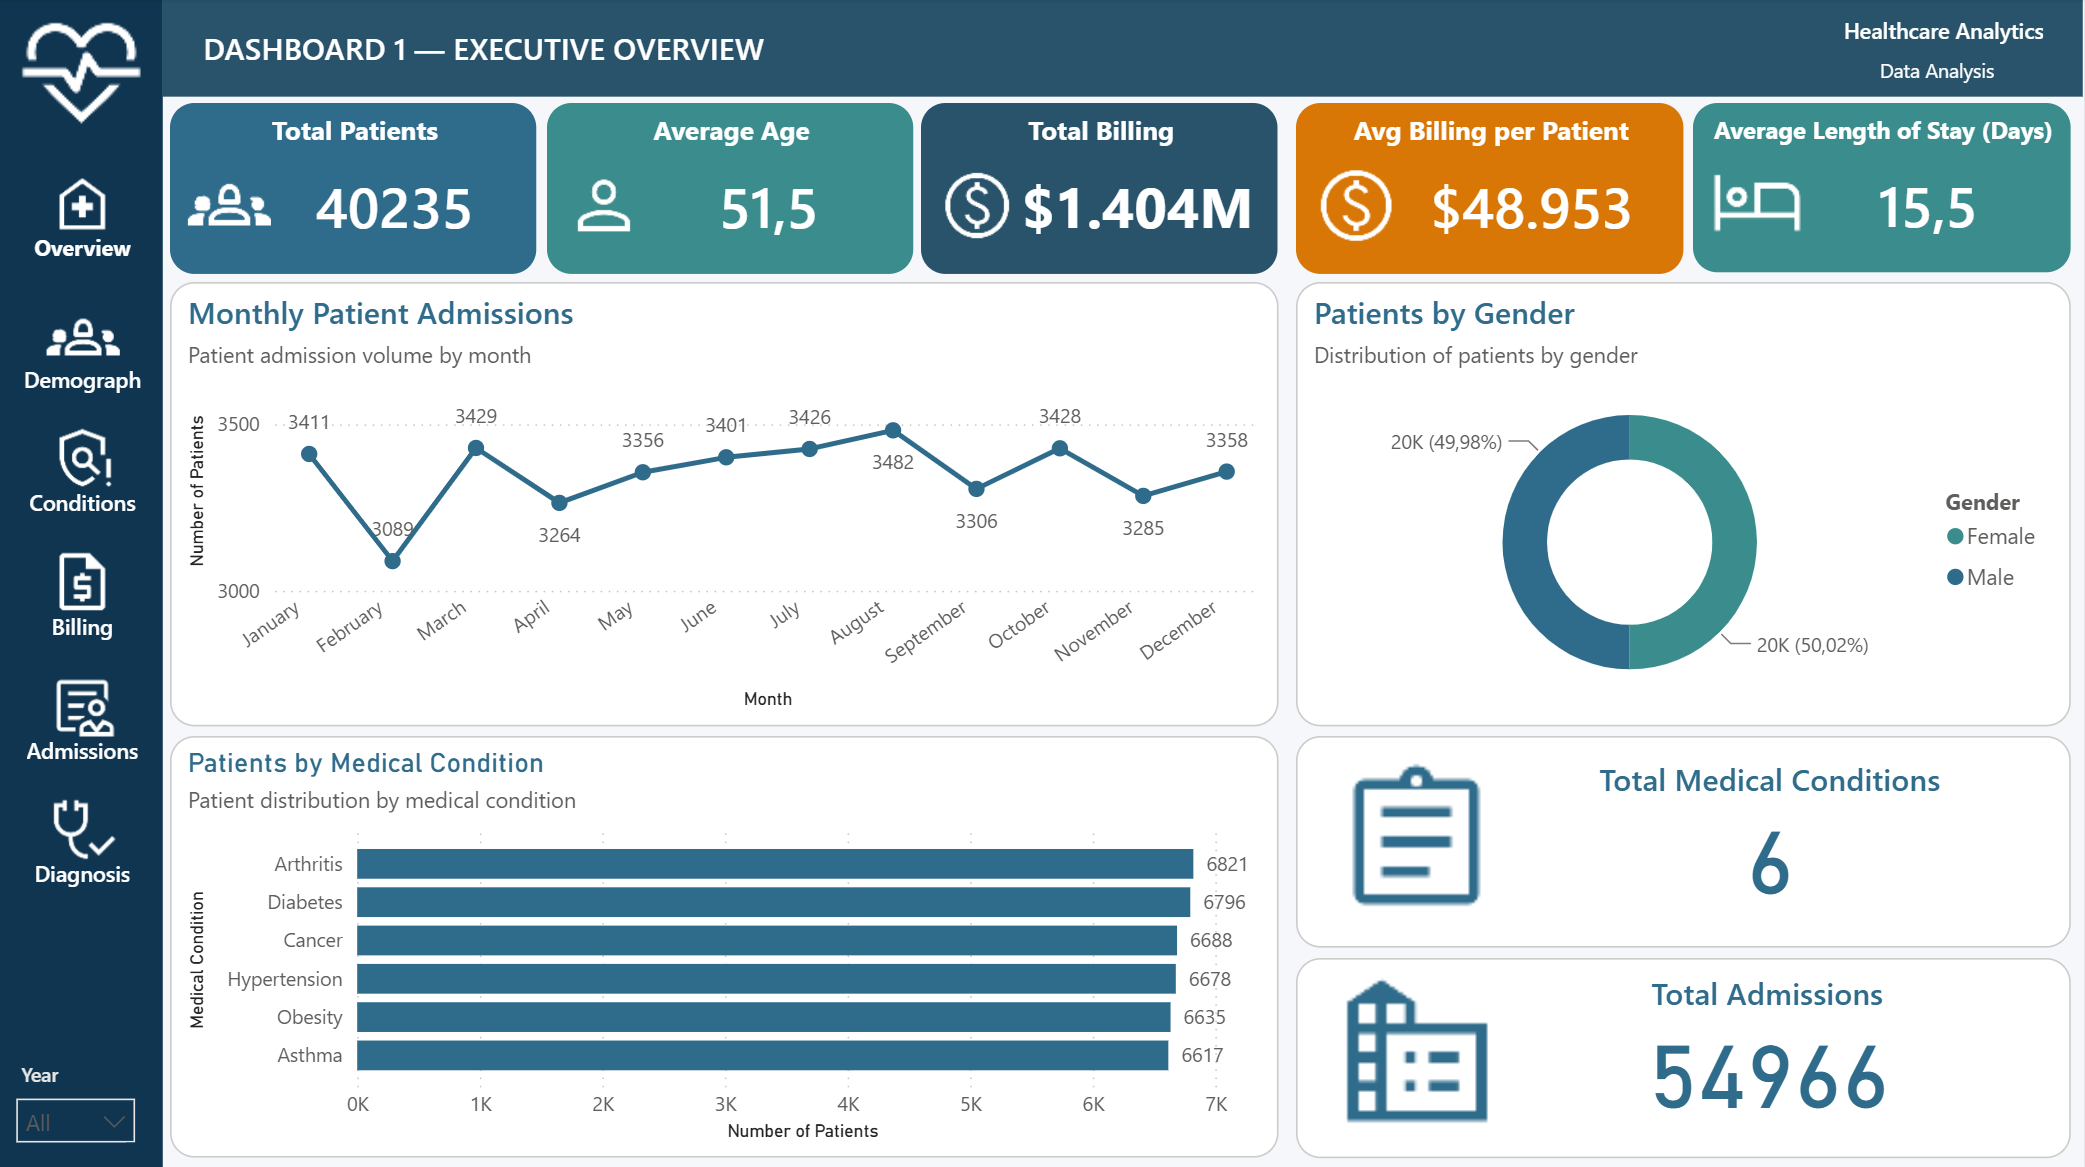

The page's visual inventory and layout, read from the dashboard file:
{"tool":"powerbi","page":{"name":"Overview","canvas":[1280,720],"ordinal":0},"visuals":[{"type":"group","id":"g1","title":"Navigation Bar","box":[0,0,100.2,720],"z":0},{"type":"shape","title":"Sidebar","box":[0,0,100,720],"z":1000,"group":"g1"},{"type":"shape","box":[99.6,0,1180.2,60],"z":1000},{"type":"actionButton","title":"NAV - Overview","box":[8.7,100.8,84,64],"z":1500,"group":"g1"},{"type":"textbox","title":"Left header title","box":[120,12,500.7,35],"z":2000},{"type":"actionButton","title":"NAV - Demographics","box":[8.6,181,84,64.5],"z":2000,"group":"g1"},{"type":"textbox","box":[1070.2,5.5,190.4,29.5],"z":3000},{"type":"actionButton","title":"NAV - Conditions","box":[8.6,257,84,64.5],"z":3000,"group":"g1"},{"type":"textbox","box":[1113.2,29.5,153.6,30.1],"z":4000},{"type":"actionButton","title":"NAV - Billing","box":[8.6,333,84,64.5],"z":4000,"group":"g1"},{"type":"cardVisual","title":"Total Patients","fields":{"Data":["Healthcare Dataset.Total Patients"]},"box":[104.7,64,225.3,104.7],"z":5000},{"type":"actionButton","title":"NAV - Admissions","box":[8.6,409,84,64.5],"z":5000,"group":"g1"},{"type":"cardVisual","title":"Average Length of Stay (Days)","fields":{"Data":["Healthcare Dataset.Average Stay"]},"box":[1040,64,232,104],"z":6000},{"type":"actionButton","title":"NAV - Diagnosis","box":[8.6,485,84,64.5],"z":6000,"group":"g1"},{"type":"cardVisual","title":"Total Billing","fields":{"Data":["Healthcare Dataset.Total Billing"]},"box":[566,64,219.3,105.3],"z":7000},{"type":"cardVisual","title":"Average Age","fields":{"Data":["Healthcare Dataset.Average Age"]},"box":[336,64,224.7,104.7],"z":8000},{"type":"cardVisual","title":"Avg Billing per Patient","fields":{"Data":["Healthcare Dataset.Avg Billing per Patient"]},"box":[796,64,238,105],"z":9000},{"type":"lineChart","title":"Monthly Patient Admissions","fields":{"Category":["Healthcare Dataset.Date of Admission.Variation.Date Hierarchy.Month"],"Y":["Healthcare Dataset.Total Patients"]},"box":[104.7,174,680.7,272.7],"z":10000},{"type":"donutChart","title":"Patients by Gender","fields":{"Category":["Healthcare Dataset.Gender"],"Y":["Healthcare Dataset.Total Patients"]},"box":[796,174,476,272.7],"z":11000},{"type":"clusteredBarChart","title":"Patients by Medical Condition","fields":{"Category":["Healthcare Dataset.Medical Condition"],"Y":["Healthcare Dataset.Total Patients"]},"box":[104.7,452.7,680.7,259.3],"z":12000},{"type":"cardVisual","fields":{"Data":["Healthcare Dataset.Diagnosis Count"]},"box":[796,452.7,476,130],"z":13000},{"type":"cardVisual","fields":{"Data":["Healthcare Dataset.Total Admissions by date"]},"box":[796,589.3,476,122.7],"z":14000},{"type":"image","box":[0,0,99.6,89.7],"z":15000},{"type":"slicer","fields":{"Values":["Healthcare Dataset.Date of Admission.Variation.Date Hierarchy.Year"]},"box":[0,647.6,92.8,55.1],"z":16000}]}

Visuals, with their boxes in screenshot pixels (x1, y1, x2, y2), scaled from the page's 1280x720 canvas onto the 2085x1167 screenshot:
"Navigation Bar" group: x1=0 y1=0 x2=163 y2=1166
"Sidebar" shape: x1=0 y1=0 x2=163 y2=1166
shape: x1=162 y1=0 x2=2084 y2=97
"NAV - Overview" actionButton: x1=14 y1=163 x2=151 y2=267
"Left header title" textbox: x1=195 y1=19 x2=1011 y2=76
"NAV - Demographics" actionButton: x1=14 y1=293 x2=151 y2=398
textbox: x1=1743 y1=9 x2=2053 y2=57
"NAV - Conditions" actionButton: x1=14 y1=417 x2=151 y2=521
textbox: x1=1813 y1=48 x2=2063 y2=97
"NAV - Billing" actionButton: x1=14 y1=540 x2=151 y2=644
"Total Patients" cardVisual: x1=171 y1=104 x2=538 y2=273
"NAV - Admissions" actionButton: x1=14 y1=663 x2=151 y2=767
"Average Length of Stay (Days)" cardVisual: x1=1694 y1=104 x2=2072 y2=272
"NAV - Diagnosis" actionButton: x1=14 y1=786 x2=151 y2=891
"Total Billing" cardVisual: x1=922 y1=104 x2=1279 y2=274
"Average Age" cardVisual: x1=547 y1=104 x2=913 y2=273
"Avg Billing per Patient" cardVisual: x1=1297 y1=104 x2=1684 y2=274
"Monthly Patient Admissions" lineChart: x1=171 y1=282 x2=1279 y2=724
"Patients by Gender" donutChart: x1=1297 y1=282 x2=2072 y2=724
"Patients by Medical Condition" clusteredBarChart: x1=171 y1=734 x2=1279 y2=1154
cardVisual - Healthcare Dataset.Diagnosis Count: x1=1297 y1=734 x2=2072 y2=944
cardVisual - Healthcare Dataset.Total Admissions by date: x1=1297 y1=955 x2=2072 y2=1154
image: x1=0 y1=0 x2=162 y2=145
slicer - Healthcare Dataset.Date of Admission.Variation.Date Hierarchy.Year: x1=0 y1=1050 x2=151 y2=1139
